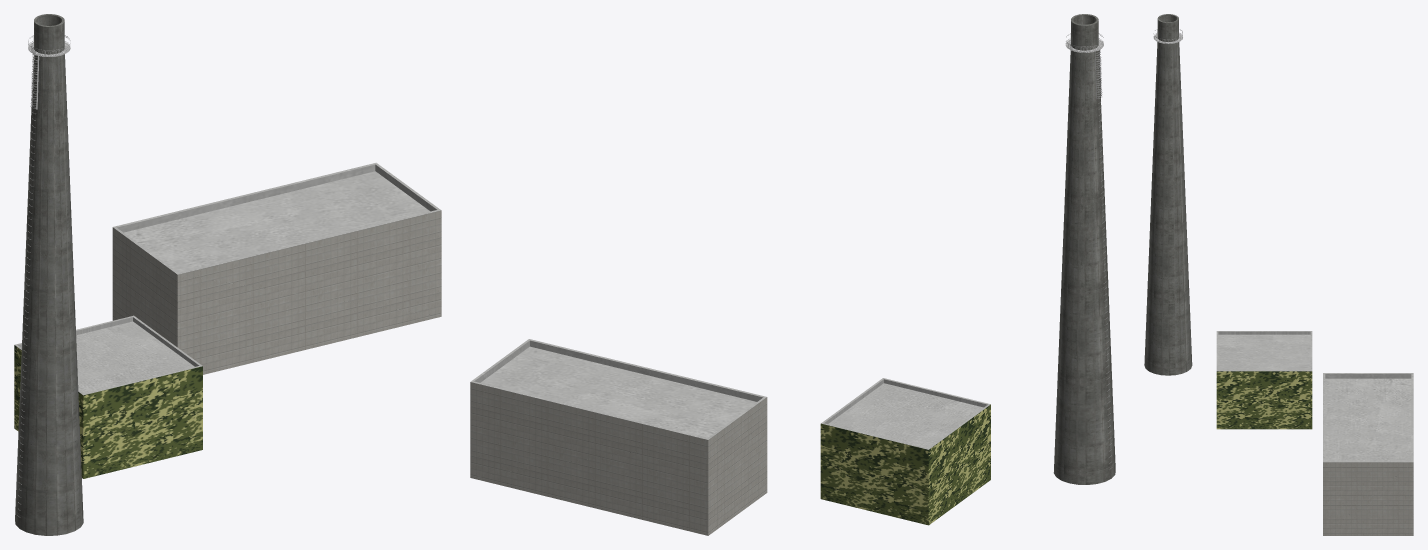
3 renders of one model, left to right at view 1: azimuth 30°, elevation 25°; view 2: azimuth 150°, elevation 25°; view 3: azimuth 270°, elevation 25°, orthographic. The views are drawn at different scales.
Visible parts, largest first — view 1: x12_cs; view 2: x12_cs; view 3: x12_cs.
Boxes of the visible parts, box(x1,y1,x2,y2) form: x12_cs: box(14, 14, 441, 535); x12_cs: box(470, 14, 1115, 535); x12_cs: box(1144, 14, 1413, 535).
Size of the model in its own units: 89.25 by 80 by 56.23.
Materials: 7 (5 with a texture image).
